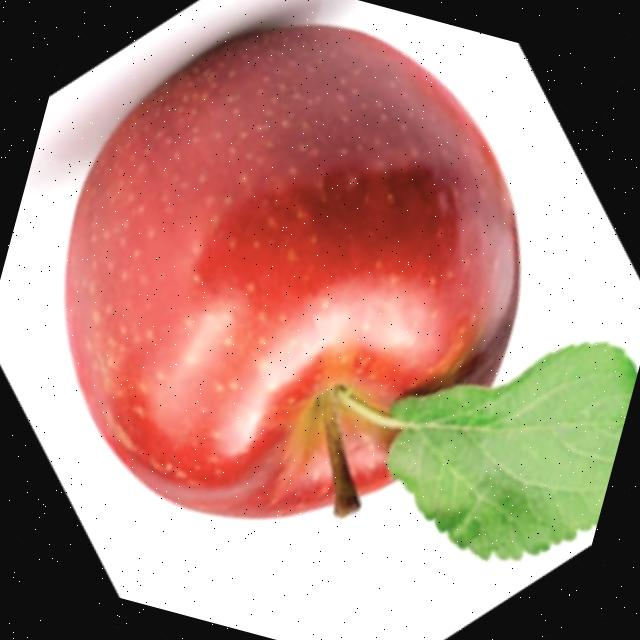Ripe: (4, 0, 583, 587)
